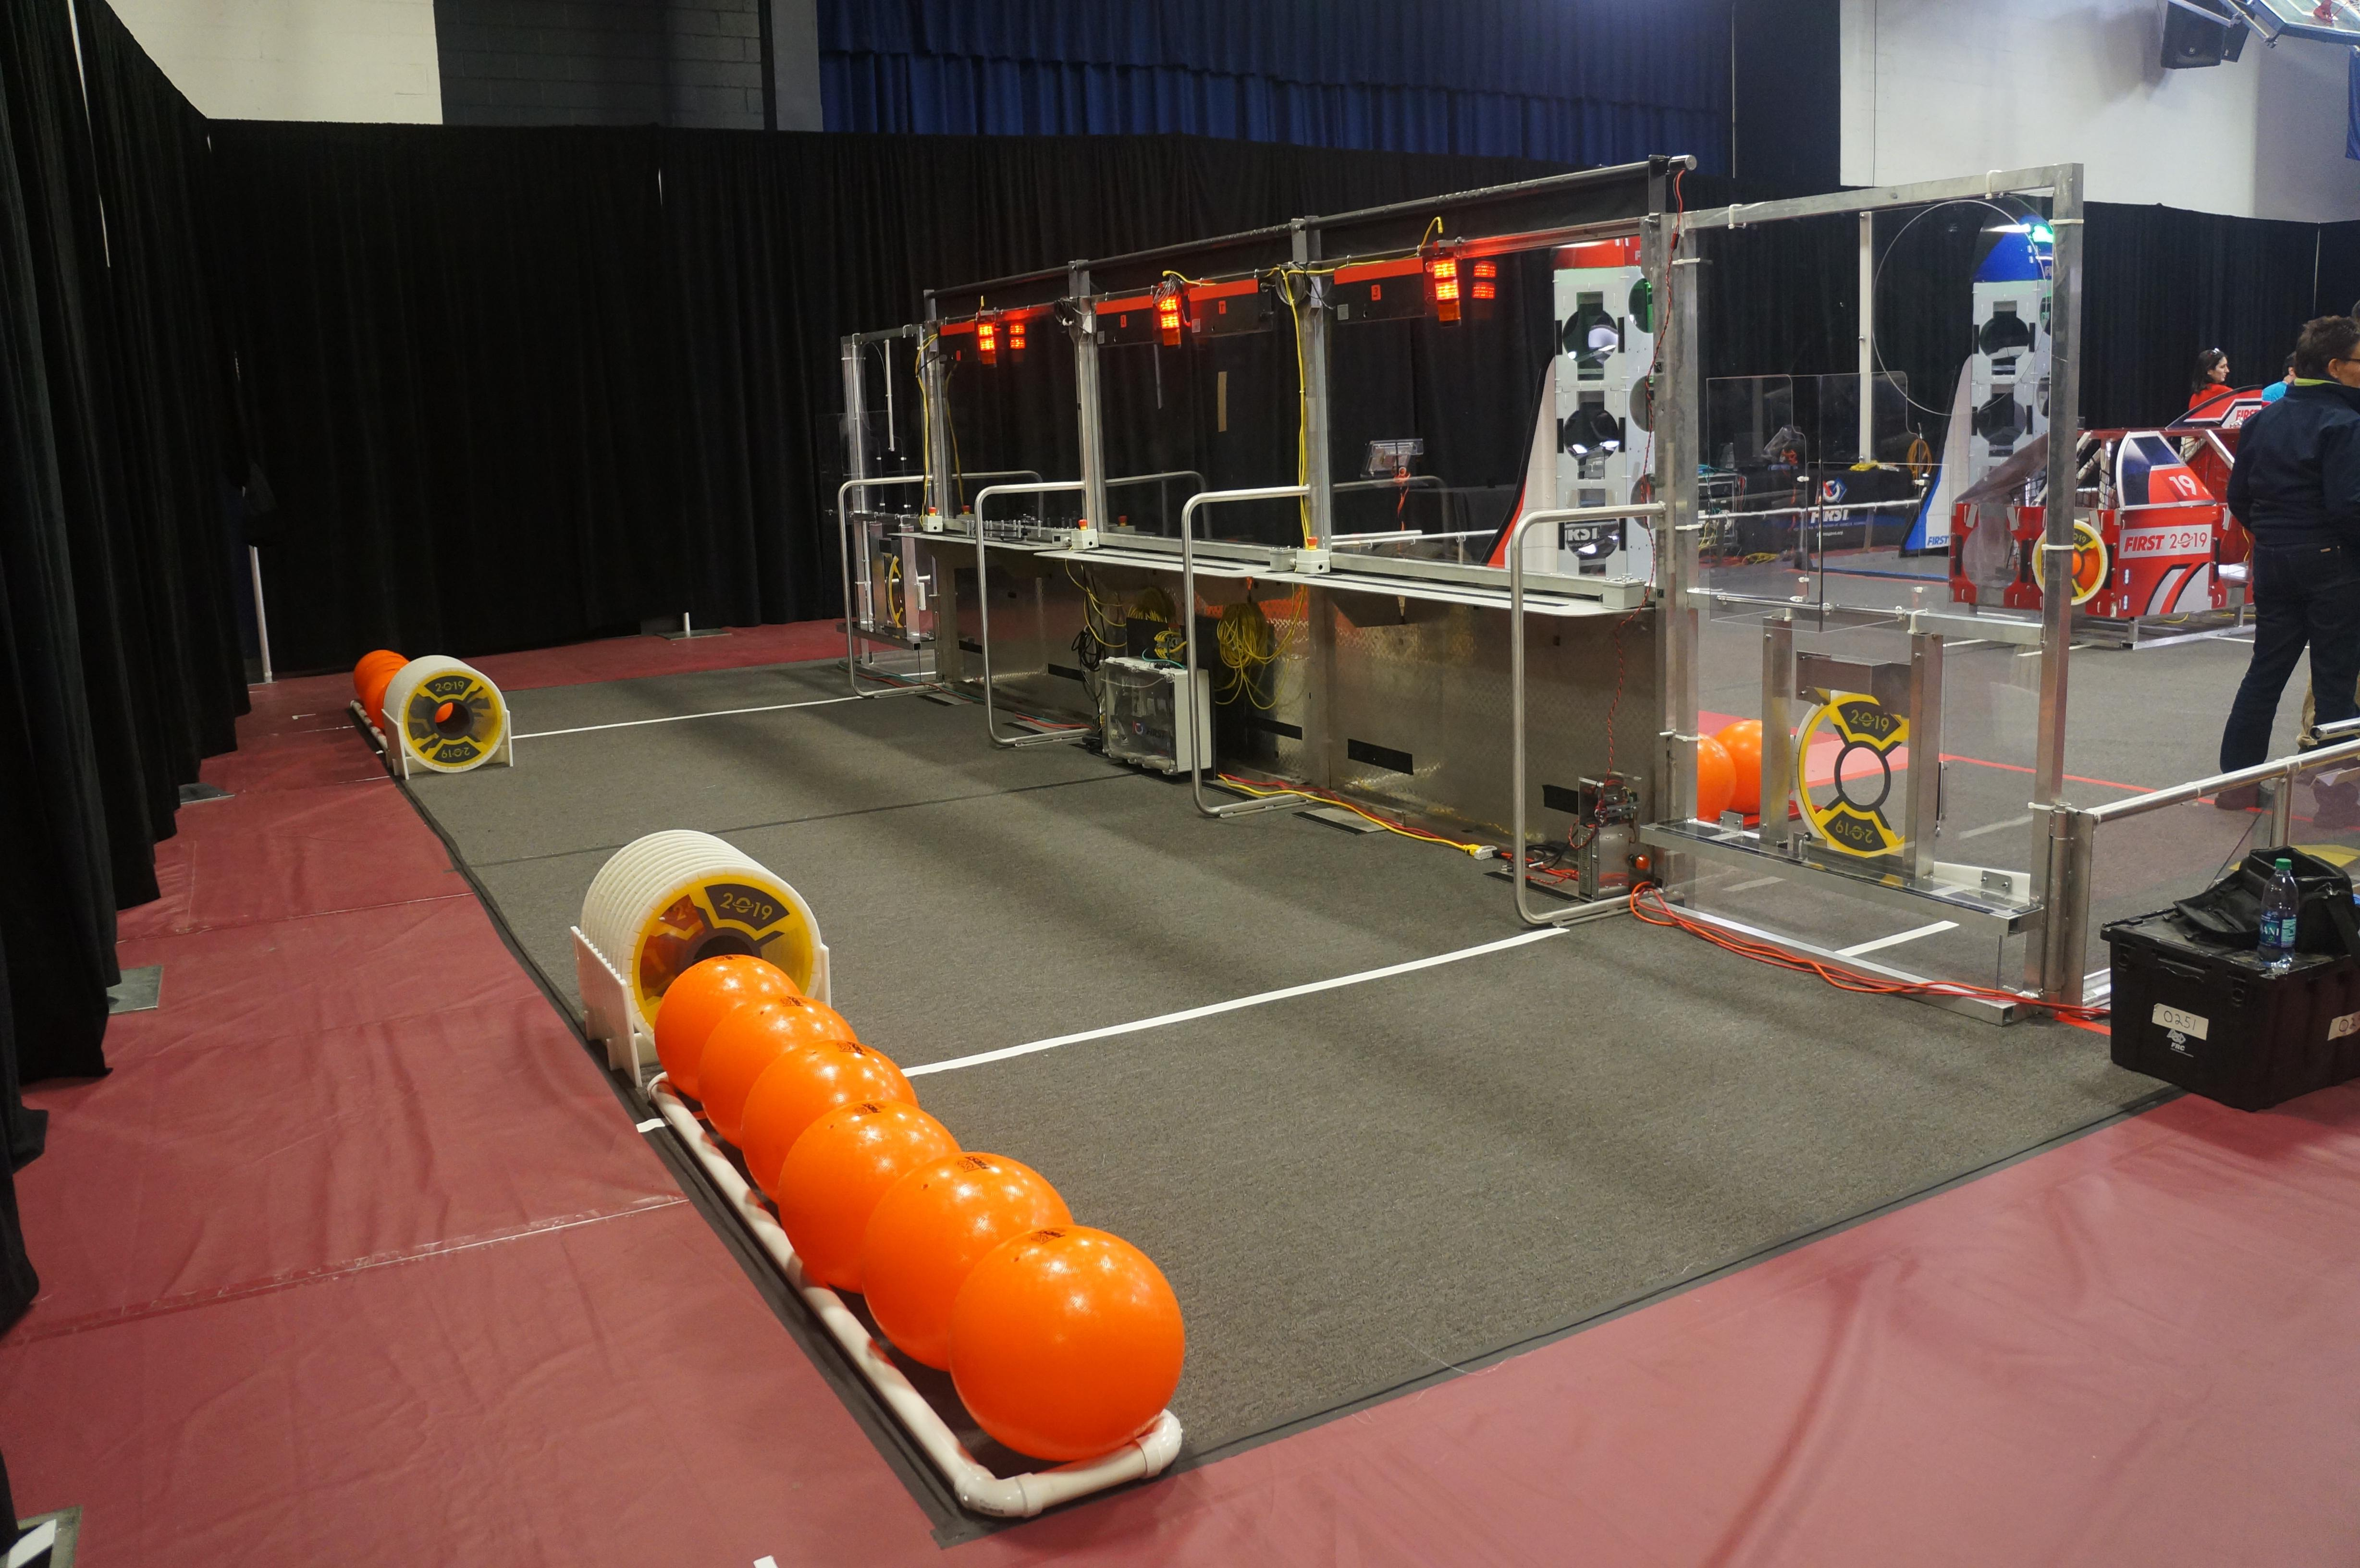Ball: (948, 1218, 1184, 1466), (857, 1148, 1078, 1375), (784, 1101, 966, 1300), (738, 1036, 918, 1218), (696, 983, 857, 1155), (651, 957, 801, 1108), (352, 649, 413, 728)
Hatch: (626, 868, 822, 1052), (1791, 682, 1917, 861), (399, 668, 509, 777), (2029, 516, 2112, 612)
